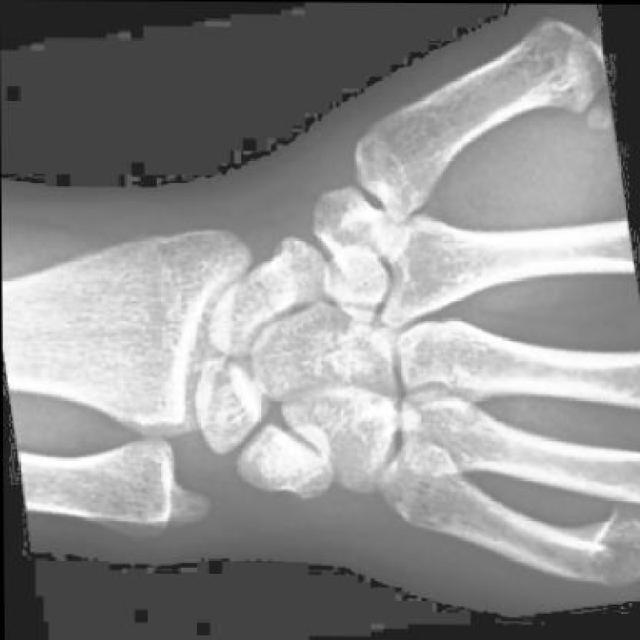Fracture: (246, 259, 290, 316)
